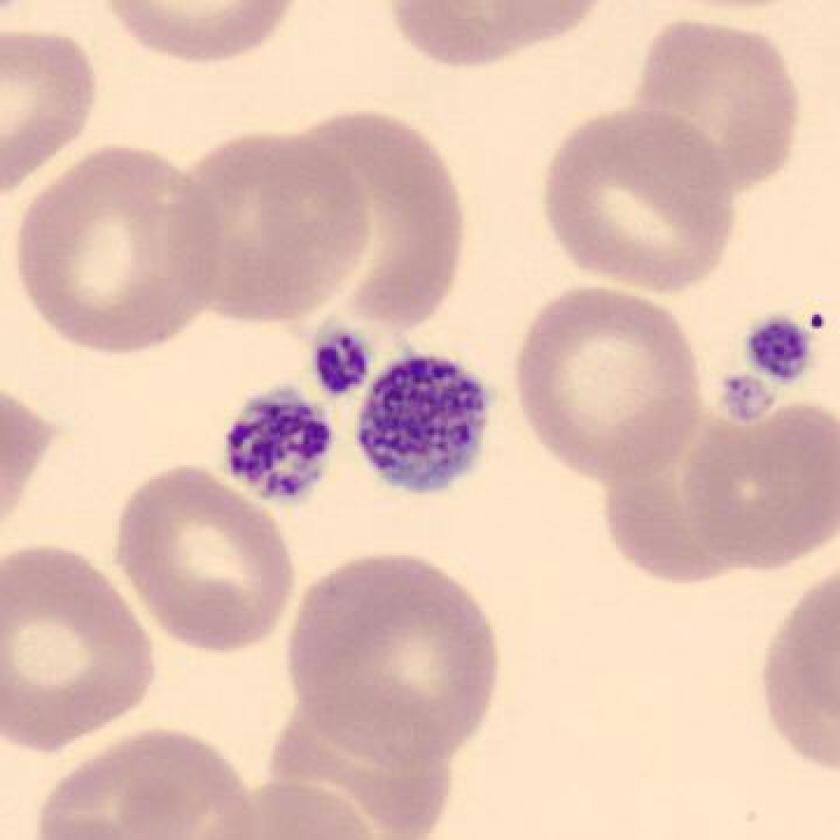platelets: (346, 341, 503, 506), (216, 378, 342, 515), (739, 300, 823, 399), (298, 318, 382, 408)
